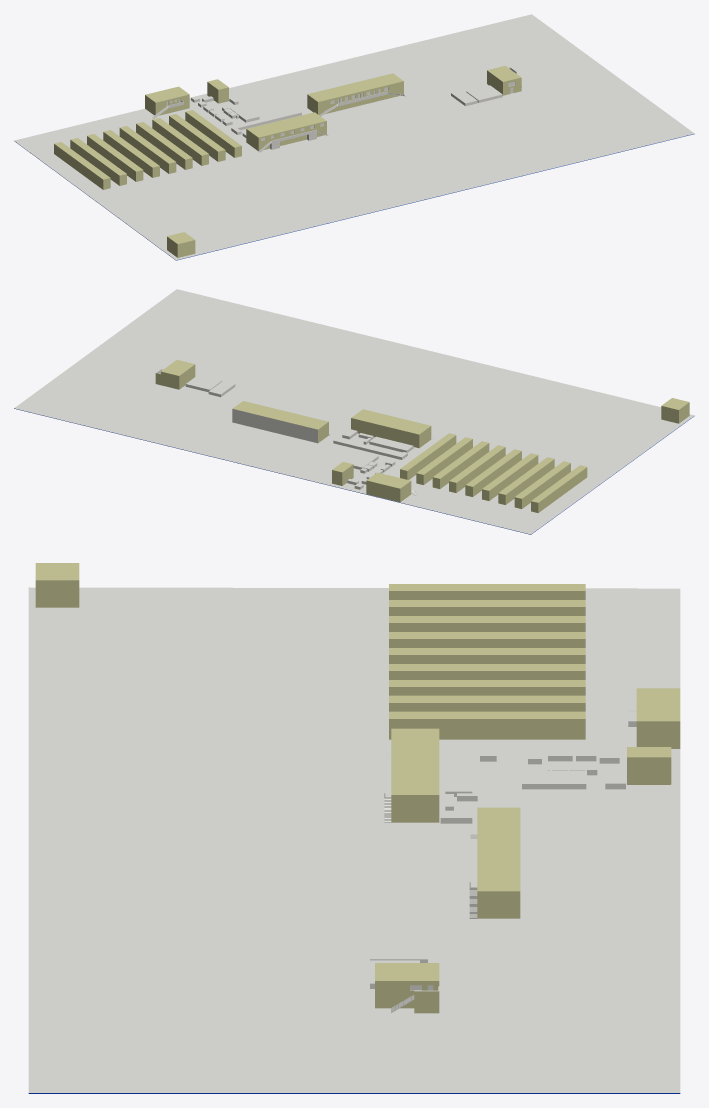
File: FLOOR.obj
3 renders of one model, top to bottom at view 1: azimuth 30°, elevation 25°; view 2: azimuth 150°, elevation 25°; view 3: azimuth 270°, elevation 25°, orthographic. The views are drawn at different scales.
Bounding box in the file's own units: 15819 × 420 × 8616.
